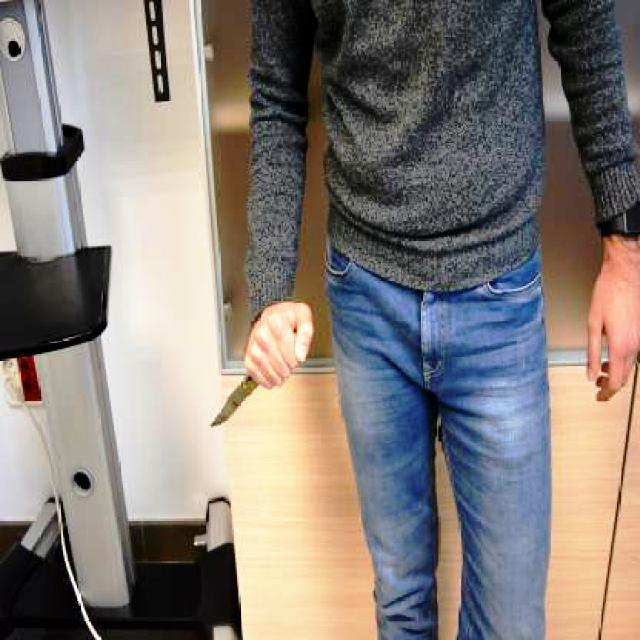Knife: (198, 360, 282, 430)
